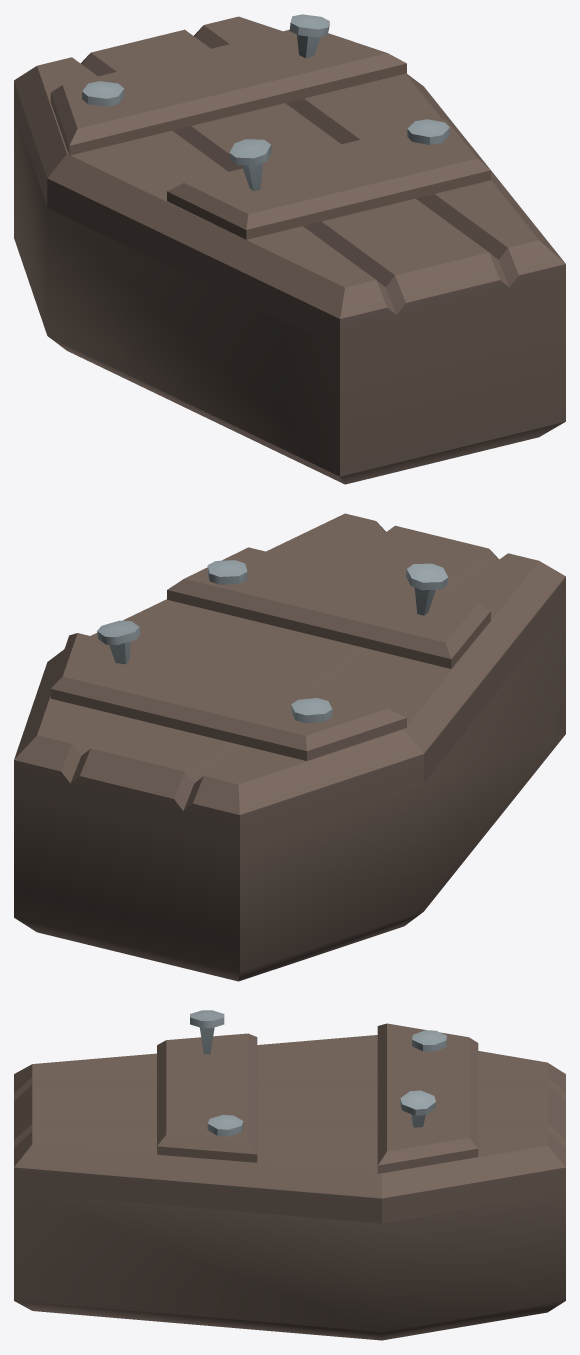
Rendered from d_kaykit_cercueil.glb.
3 renders of one model, top to bottom at view 1: azimuth 30°, elevation 25°; view 2: azimuth 150°, elevation 25°; view 3: azimuth 270°, elevation 25°, orthographic. The views are drawn at different scales.
Parts seen in each view (by area): view 1: d_kaykit_cercueil; view 2: d_kaykit_cercueil; view 3: d_kaykit_cercueil.
Boxes of the visible parts, left/top/right/bottom form: d_kaykit_cercueil: left=14, top=14, right=565, bottom=484; d_kaykit_cercueil: left=14, top=513, right=565, bottom=981; d_kaykit_cercueil: left=14, top=1010, right=565, bottom=1340.
Size of the model in its own units: 2 by 1.32 by 3.
1 material, 1 textured.
